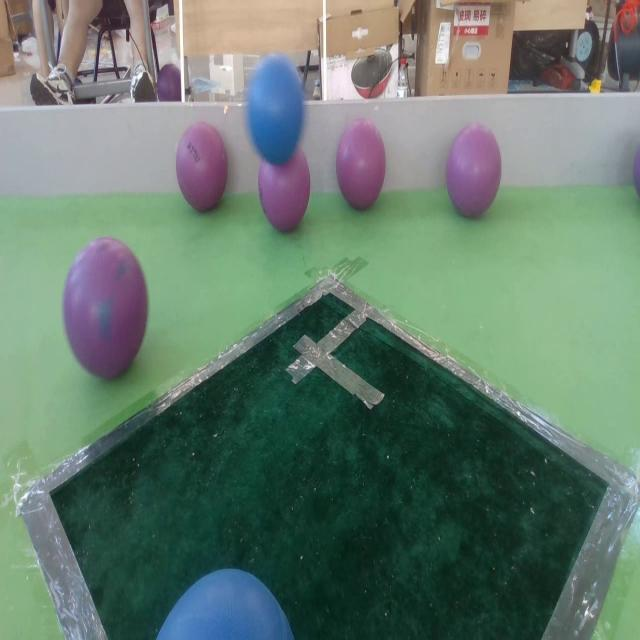blue: (154, 565, 296, 640), (248, 54, 304, 164)
invalid: (62, 238, 150, 376), (444, 122, 502, 219), (255, 148, 314, 234), (176, 123, 229, 215), (336, 119, 384, 211)
